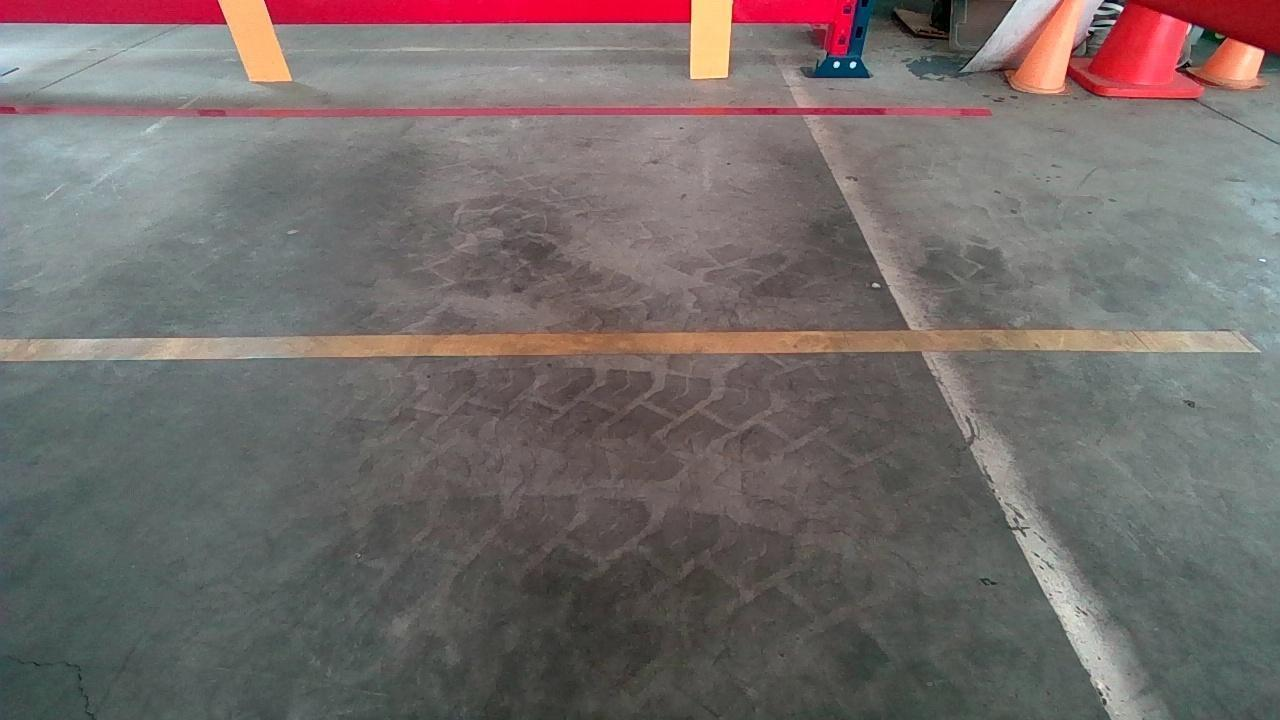yellow_line: (2, 324, 1255, 364)
